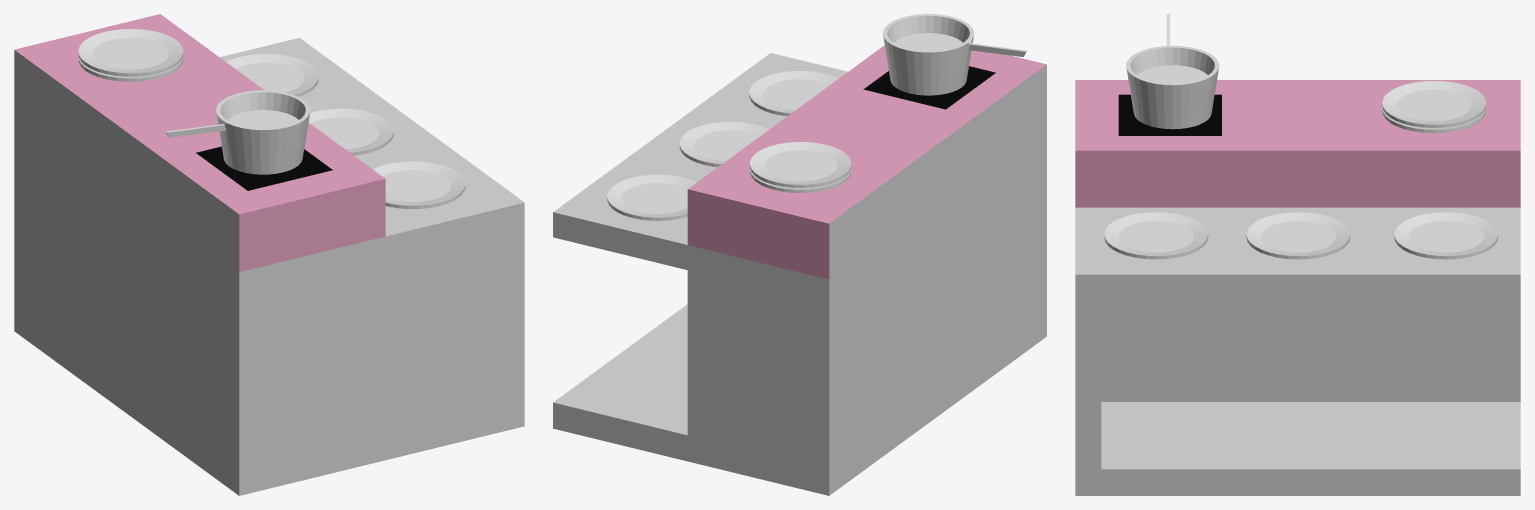
Rendered from Cook_Bench.fbx.
3 views of the same model, side by side, from view 1: azimuth 30°, elevation 25°; view 2: azimuth 150°, elevation 25°; view 3: azimuth 270°, elevation 25° (orthographic). The views are drawn at different scales.
Visible parts, largest first — view 1: Cube; view 2: Cube; view 3: Cube.
Boxes of the visible parts, x1,y1,x2,y2 form: Cube: (14,14,524,495); Cube: (553,14,1046,495); Cube: (1075,14,1520,495).
Size of the model in its own units: 447 by 461 by 560.
